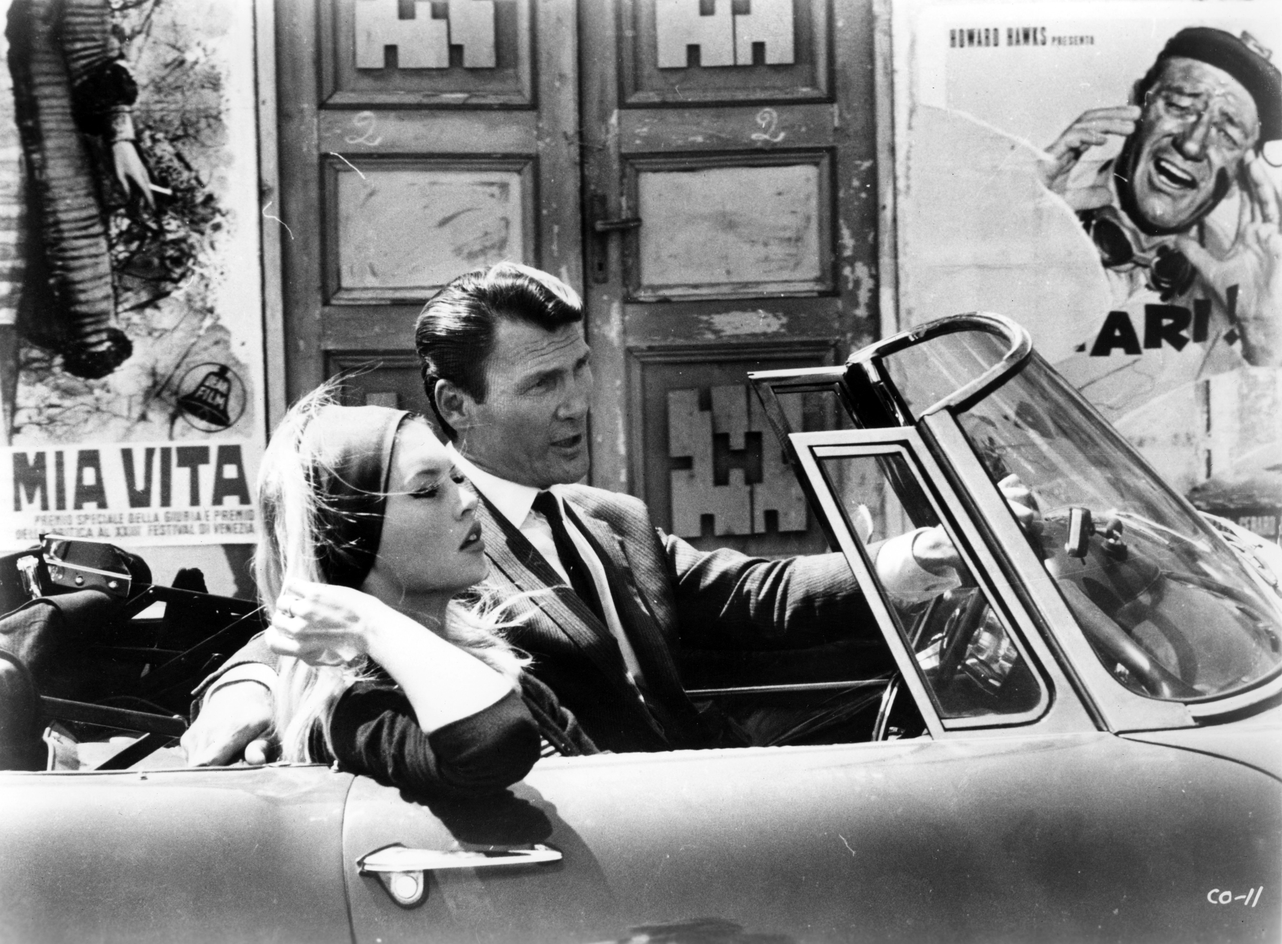20: (348, 397, 510, 611)
52: (456, 288, 612, 507)
63: (1114, 27, 1273, 252)
Coat: (439, 452, 788, 757)
Female: (348, 397, 510, 611)
Hair Band: (295, 410, 414, 582)
Male: (1114, 27, 1273, 252), (456, 288, 612, 507)
Tie: (537, 506, 604, 609)
Upper: (317, 673, 565, 803)
